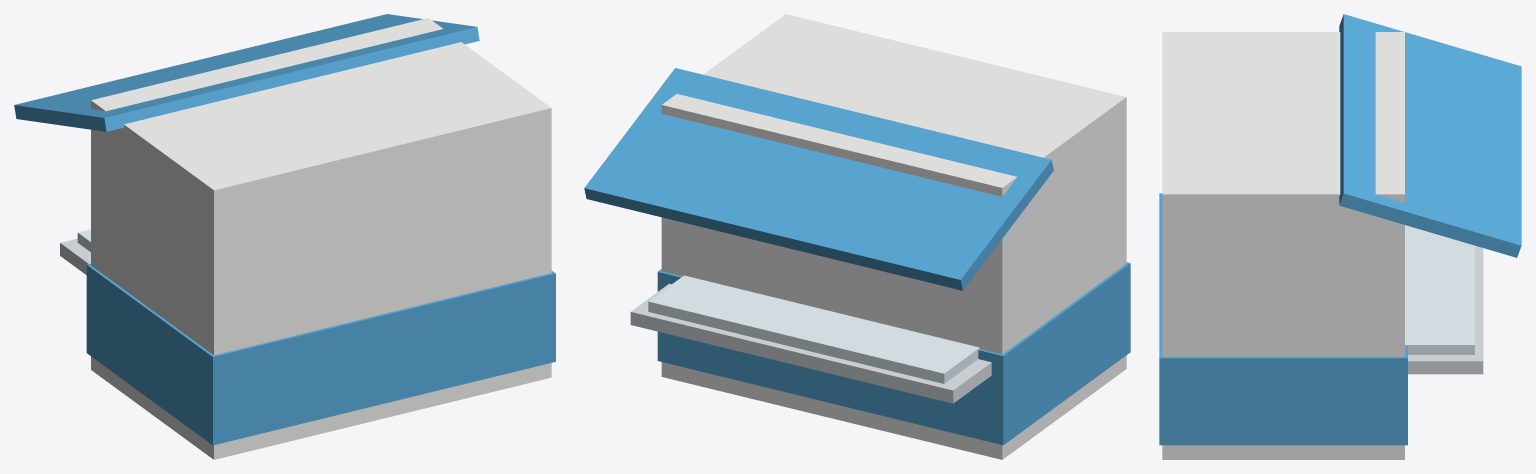
The model's file is Puerto_FishStall.fbx.
The picture shows the model from 3 angles, left to right: view 1: azimuth 30°, elevation 25°; view 2: azimuth 150°, elevation 25°; view 3: azimuth 270°, elevation 25°; orthographic projection. The views are drawn at different scales.
Parts seen in each view (by area): view 1: Cube, Cube.001, Cube.002, Cube.003; view 2: Cube, Cube.002, Cube.001, Cube.004, Cube.003; view 3: Cube, Cube.002, Cube.001, Cube.004, Cube.003.
Boxes of the visible parts, x1,y1,x2,y2 form: Cube: (91, 18, 551, 459); Cube.001: (86, 264, 555, 445); Cube.002: (14, 14, 479, 131); Cube.003: (60, 238, 90, 274); Cube: (661, 14, 1126, 459); Cube.002: (584, 68, 1053, 290); Cube.001: (657, 262, 1130, 445); Cube.004: (648, 275, 979, 383); Cube.003: (630, 283, 991, 403); Cube: (1162, 32, 1404, 459); Cube.002: (1339, 14, 1521, 257); Cube.001: (1159, 193, 1407, 445); Cube.004: (1405, 225, 1474, 354); Cube.003: (1408, 245, 1483, 374).
Bounding box in the file's own units: 4.2 × 3 × 3.58.
